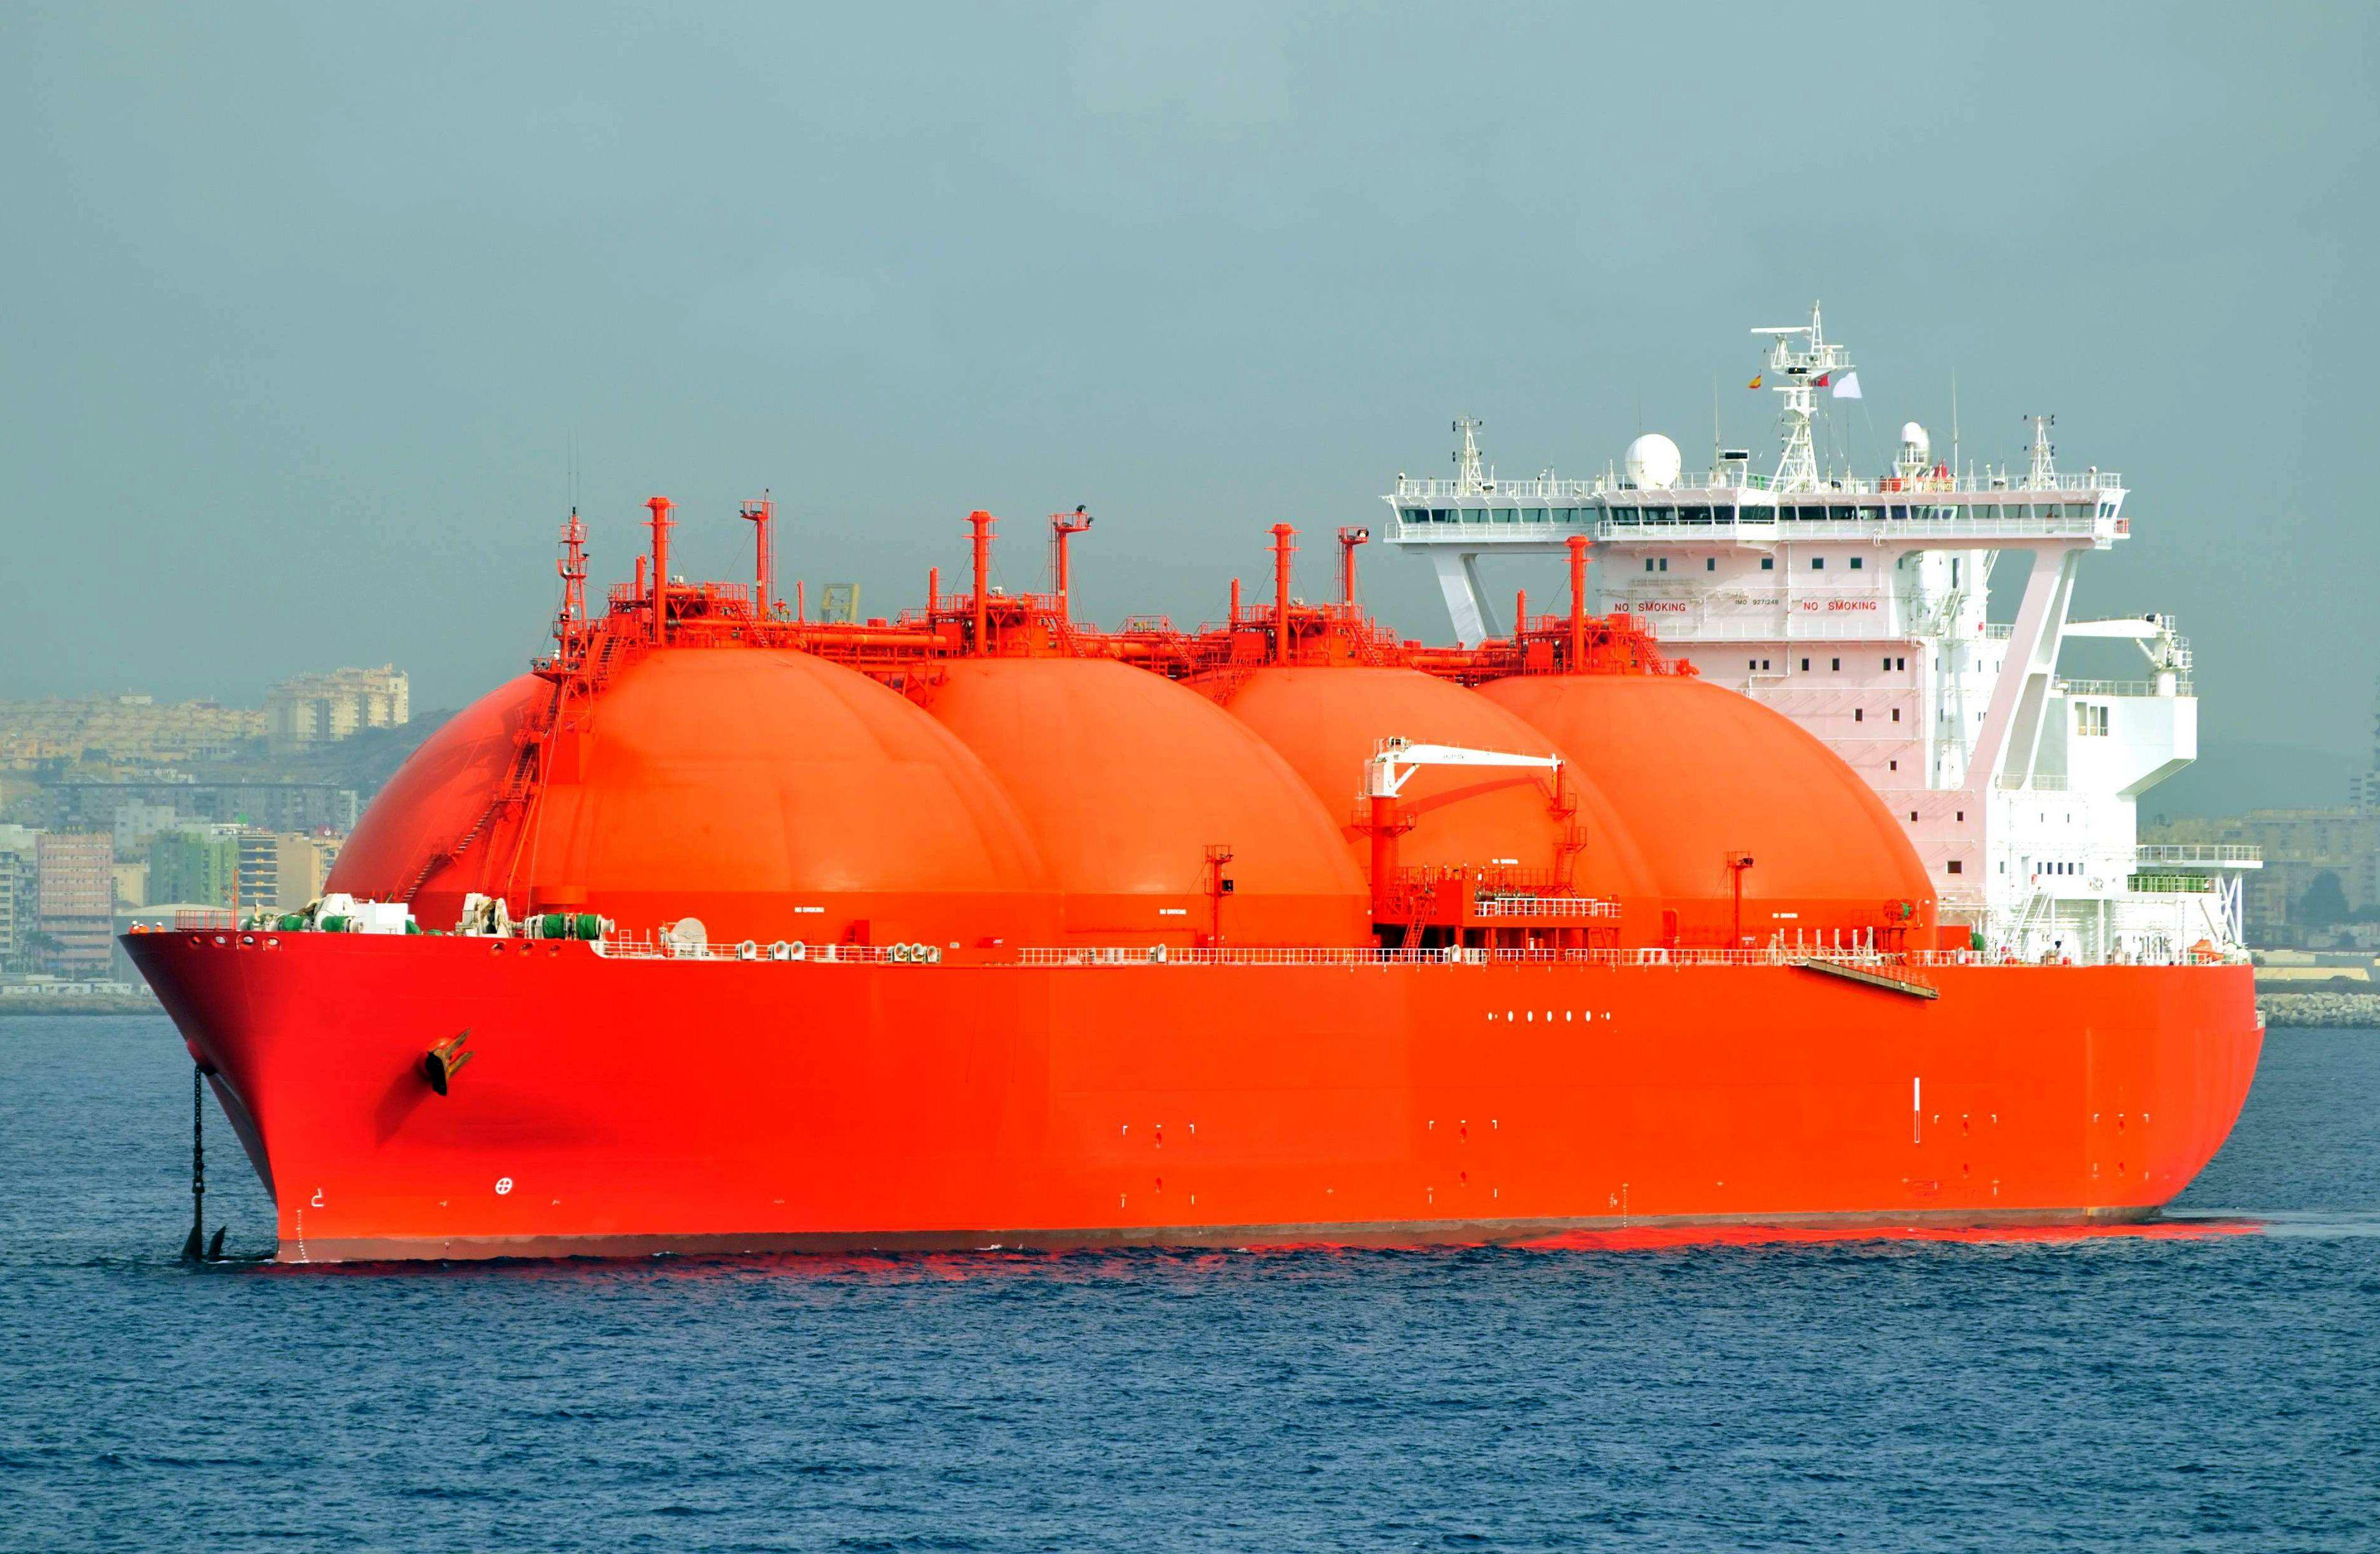Cargoship: (111, 309, 2345, 1268)
